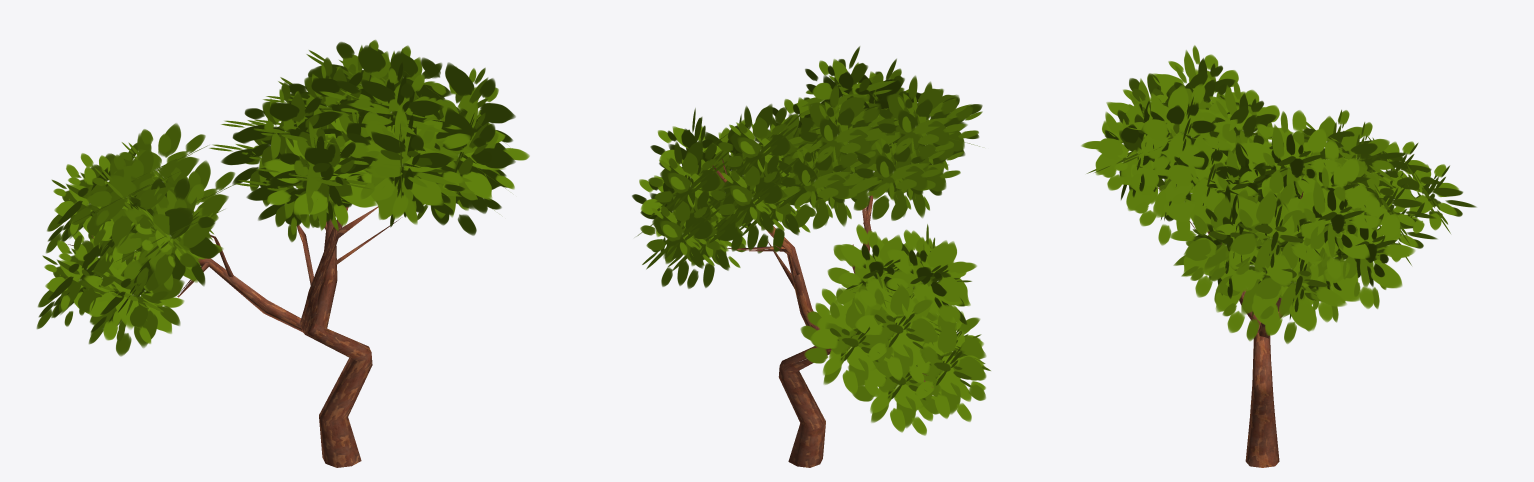
Rendered from tree (605 fc).glb.
The picture shows the model from 3 angles, left to right: view 1: azimuth 30°, elevation 25°; view 2: azimuth 150°, elevation 25°; view 3: azimuth 270°, elevation 25°; orthographic projection. The views are drawn at different scales.
Parts seen in each view (by area): view 1: bush.001, bush.002, bush.003, DeadTree_7; view 2: bush.002, bush.001, bush.003, DeadTree_7; view 3: bush.003, bush.001, bush.002, DeadTree_7.
Boxes of the visible parts, bbox=[...] form: bush.001: bbox=[209, 57, 474, 242]; bush.002: bbox=[36, 123, 234, 356]; bush.003: bbox=[278, 39, 529, 235]; DeadTree_7: bbox=[64, 206, 400, 467]; bush.002: bbox=[800, 224, 990, 435]; bush.001: bbox=[758, 46, 982, 229]; bush.003: bbox=[632, 104, 822, 288]; DeadTree_7: bbox=[712, 159, 932, 467]; bush.003: bbox=[1169, 110, 1415, 343]; bush.001: bbox=[1081, 45, 1311, 245]; bush.002: bbox=[1300, 109, 1476, 265]; DeadTree_7: bbox=[1158, 187, 1303, 467].
Size of the model in its own units: 9.04 by 8.1 by 8.82.
2 materials, 2 textured.
